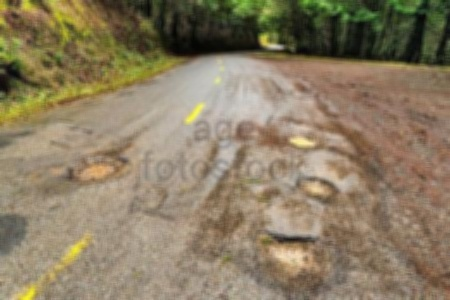pothole: (258, 231, 324, 273), (62, 154, 129, 184), (295, 174, 336, 203), (286, 133, 320, 148)
